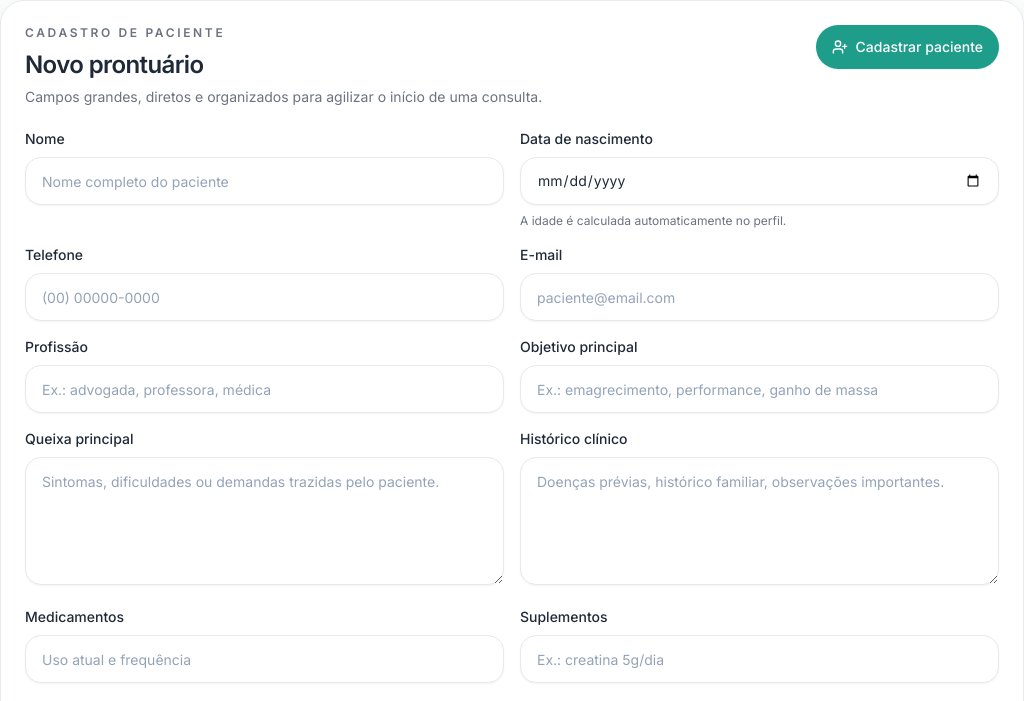
it: PatientIntakeFormV2 › shows required field feedback before submitting
The image size is (1024, 701).
What coordinates should you click on to do the following:
click the button "Cadastrar paciente"
I would click on:
 (907, 47)
Its box is [816, 25, 999, 69].
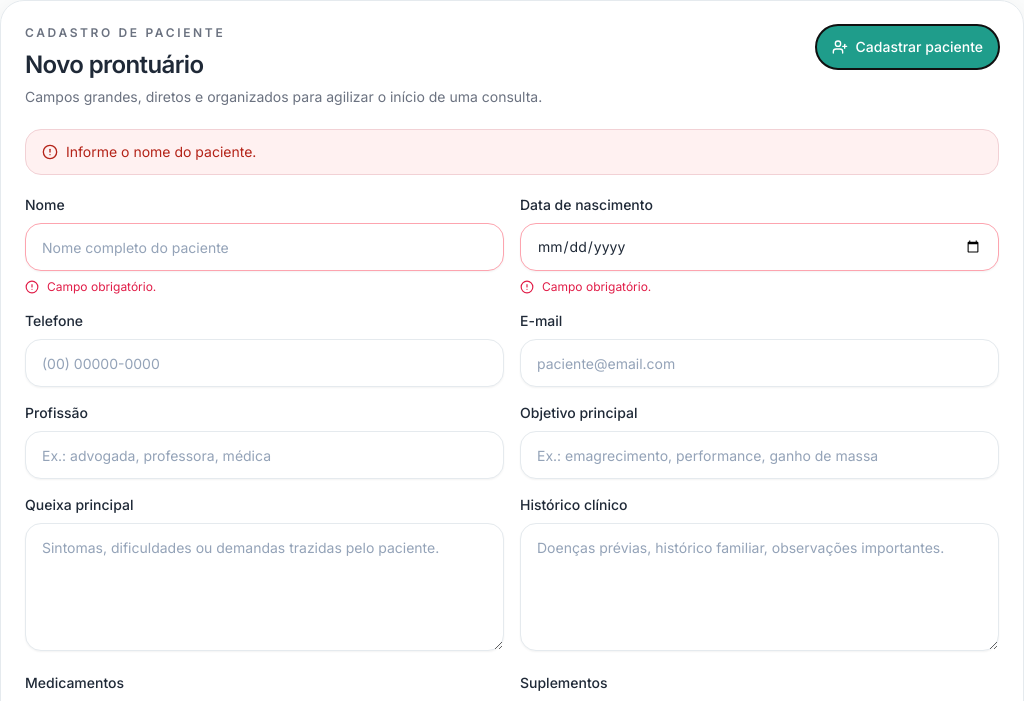
Check: the text "Informe o nome do paciente." is shown, box [25, 129, 999, 175]
